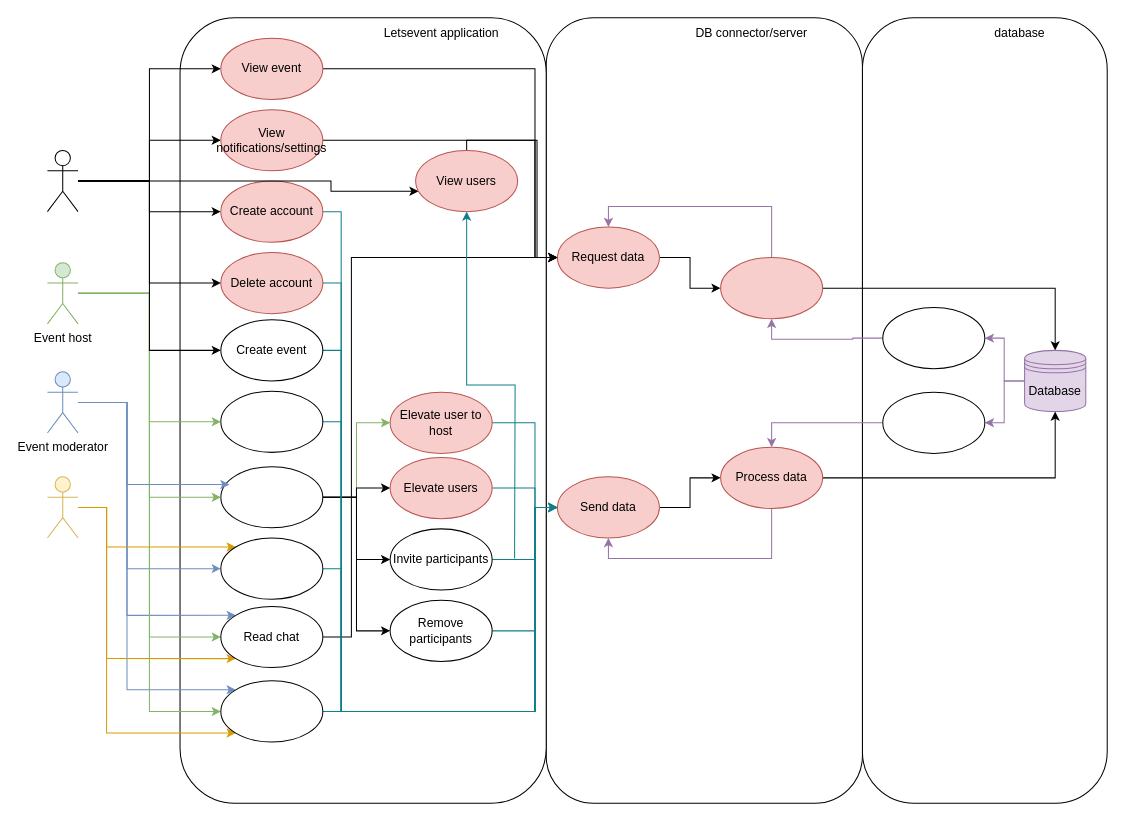
The diagram is 1125 pixels wide and 821 high, and some of its shapes have lost their labels. Here are the shapes that lost their labels. From the top down, the centre of each, then its label:
the point at 62,180: Any user
the point at 771,288: Process request
the point at 933,338: Data
the point at 271,421: Cancel event
the point at 933,422: Response
the point at 62,507: Event participant
the point at 271,497: Edit event data
the point at 271,568: Leave event
the point at 271,711: Write chat message
